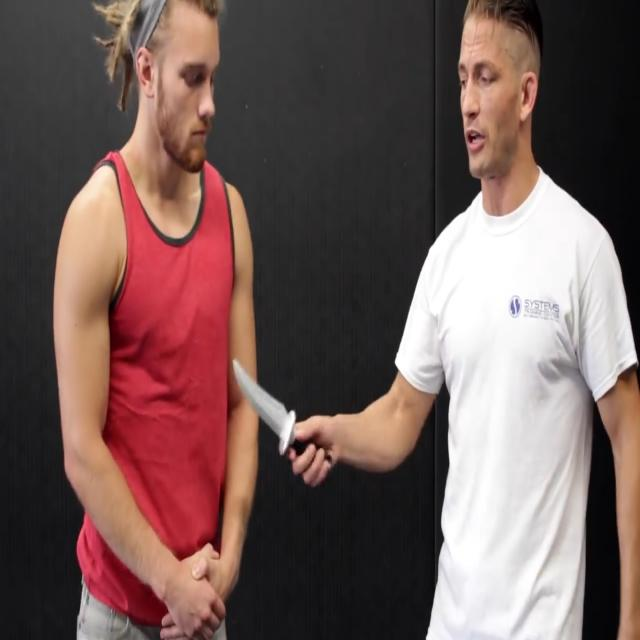knife: (232, 356, 298, 454)
